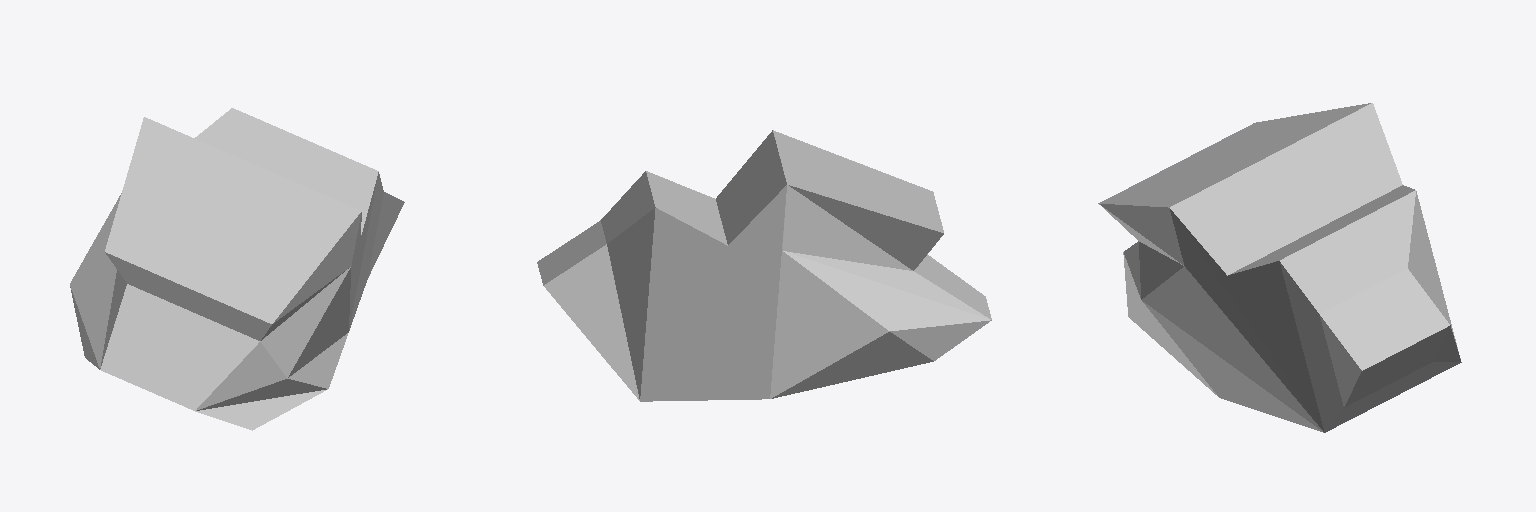
Rendered from minerals3.obj.
3 renders of one model, left to right at view 1: azimuth 30°, elevation 25°; view 2: azimuth 150°, elevation 25°; view 3: azimuth 270°, elevation 25°, orthographic.
Parts seen in each view (by area): view 1: Shard01_Cube.001; view 2: Shard01_Cube.001; view 3: Shard01_Cube.001.
Boxes of the visible parts, <box> form: Shard01_Cube.001: <box>70,108,404,430</box>; Shard01_Cube.001: <box>537,130,991,401</box>; Shard01_Cube.001: <box>1098,103,1461,432</box>.
Size of the model in its own units: 0.4409 by 0.2692 by 0.365.